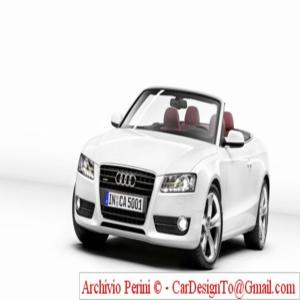Vehicle-registration-plate: (106, 192, 145, 213)
